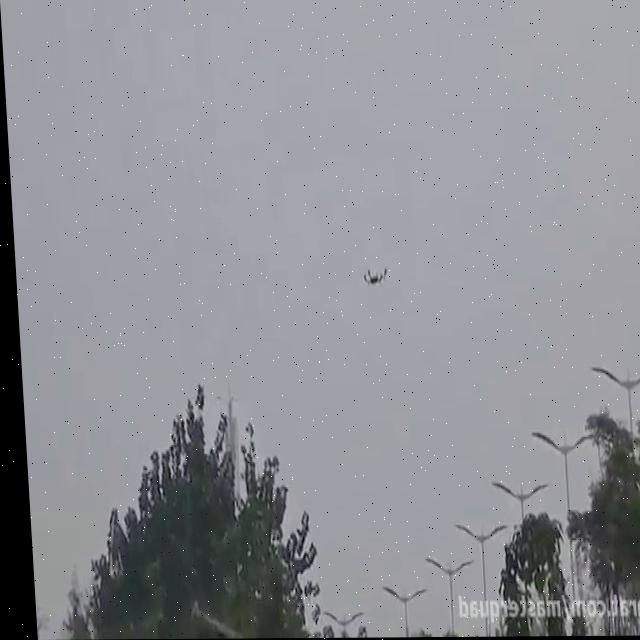drone: (356, 260, 389, 287)
